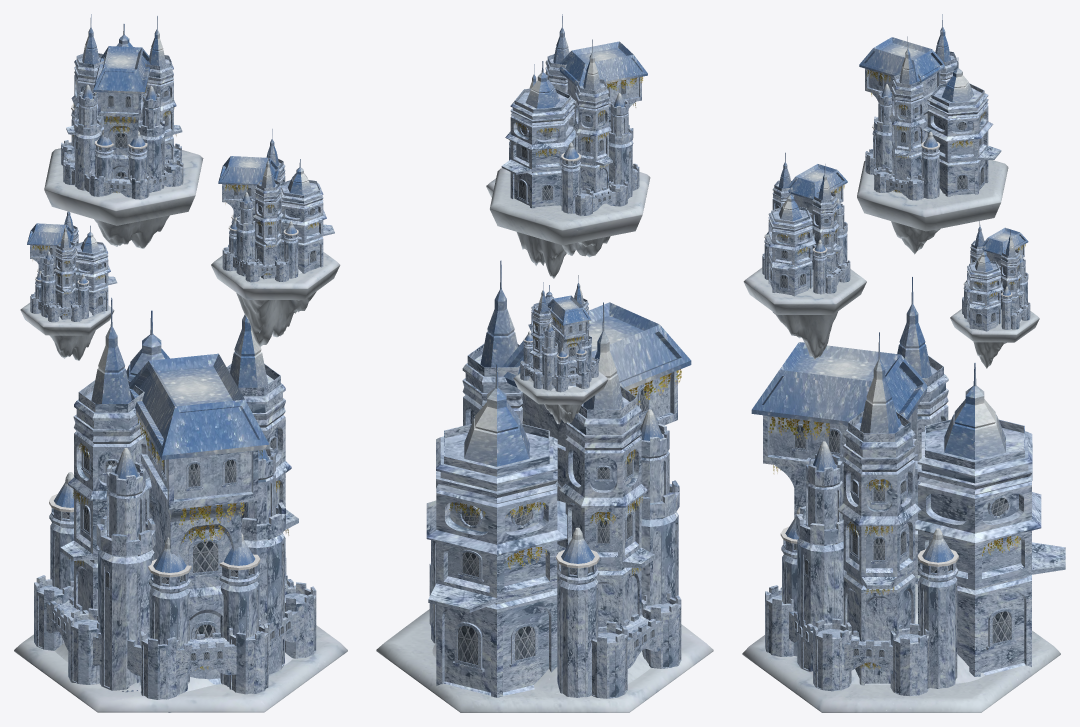
Rendered from castle_winter_lord_l3.glb.
The picture shows the model from 3 angles, left to right: view 1: azimuth 30°, elevation 25°; view 2: azimuth 150°, elevation 25°; view 3: azimuth 270°, elevation 25°; orthographic projection. The views are drawn at different scales.
Parts seen in each view (by area): view 1: winter_lord_l3; view 2: winter_lord_l3; view 3: winter_lord_l3.
Boxes of the visible parts, bbox=[...] form: winter_lord_l3: bbox=[14, 14, 347, 712]; winter_lord_l3: bbox=[376, 14, 713, 712]; winter_lord_l3: bbox=[742, 14, 1065, 712].
Size of the model in its own units: 1.73 by 4.28 by 2.03.
Materials: 3 (3 with a texture image).
